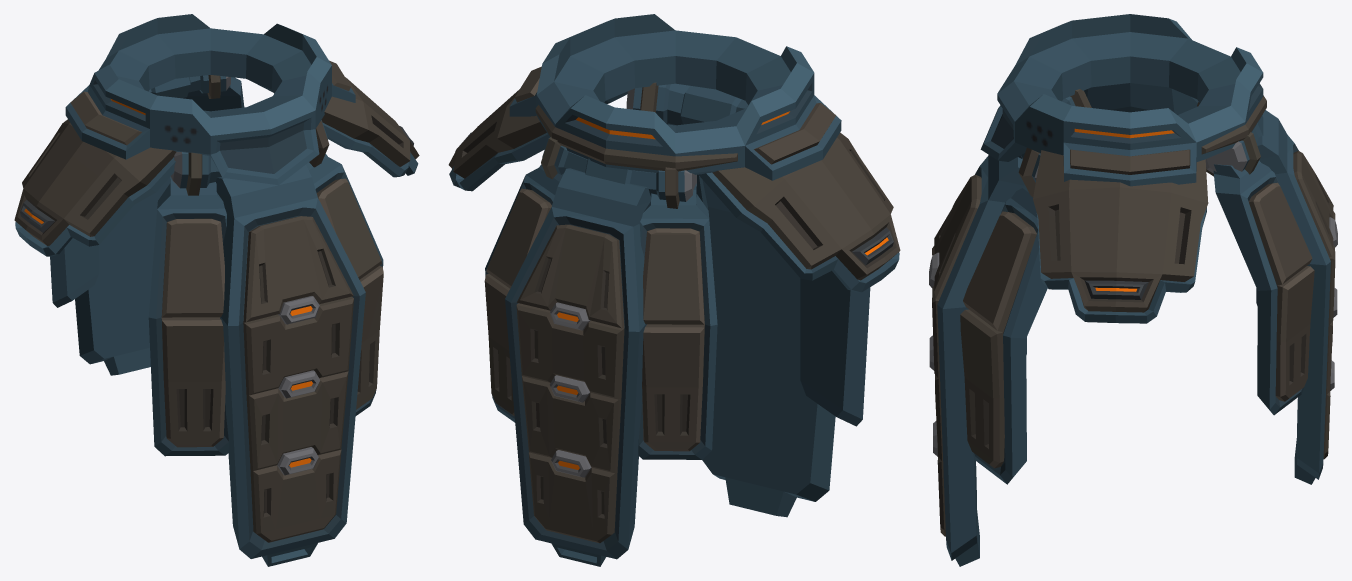
Rendered from SM_Mech_Hips_01_Armor_Belt_02.fbx.
3 renders of one model, left to right at view 1: azimuth 30°, elevation 25°; view 2: azimuth 150°, elevation 25°; view 3: azimuth 270°, elevation 25°, orthographic. The views are drawn at different scales.
Parts seen in each view (by area): view 1: SM_Mech_Hips_01_Armor_Belt_02; view 2: SM_Mech_Hips_01_Armor_Belt_02; view 3: SM_Mech_Hips_01_Armor_Belt_02.
Part boxes in pixels (bbox=[...]): SM_Mech_Hips_01_Armor_Belt_02: bbox=[14, 14, 419, 566]; SM_Mech_Hips_01_Armor_Belt_02: bbox=[448, 14, 900, 566]; SM_Mech_Hips_01_Armor_Belt_02: bbox=[929, 14, 1337, 566].
Bounding box in the file's own units: 143 × 162 × 122.
